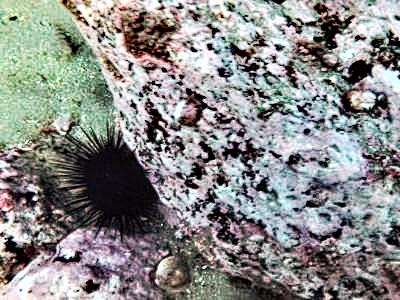urchin: (39, 119, 173, 244)
